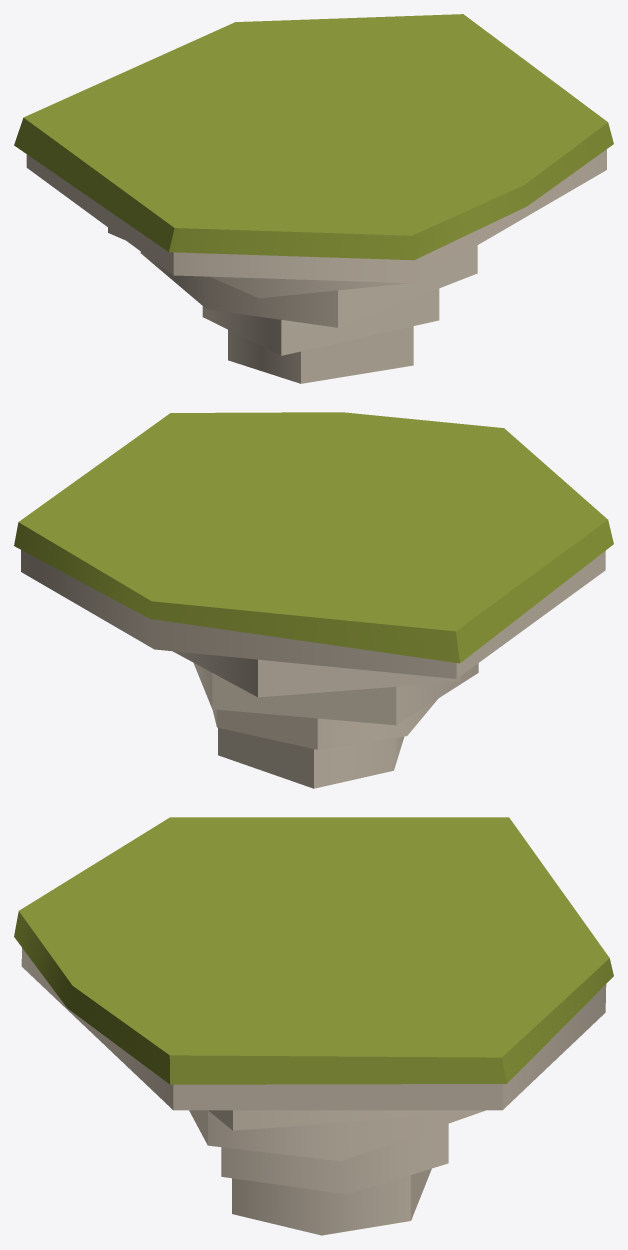
The model's file is floor1.fbx.
3 views of the same model, one above another, from view 1: azimuth 30°, elevation 25°; view 2: azimuth 150°, elevation 25°; view 3: azimuth 270°, elevation 25° (orthographic). The views are drawn at different scales.
Parts seen in each view (by area): view 1: polySurface1; view 2: polySurface1; view 3: polySurface1.
Part boxes in pixels (x1,y1,x2,y2): polySurface1: (14, 14, 613, 383); polySurface1: (14, 412, 613, 788); polySurface1: (14, 817, 613, 1235).
Bounding box in the file's own units: 4.3 × 2.05 × 4.45.
Materials: 1 (1 with a texture image).
